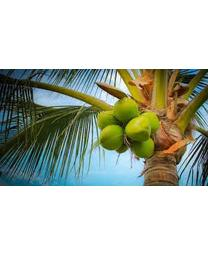coconut: (125, 115, 153, 142), (97, 123, 125, 150), (112, 97, 138, 123), (131, 135, 156, 160), (96, 109, 121, 130)
